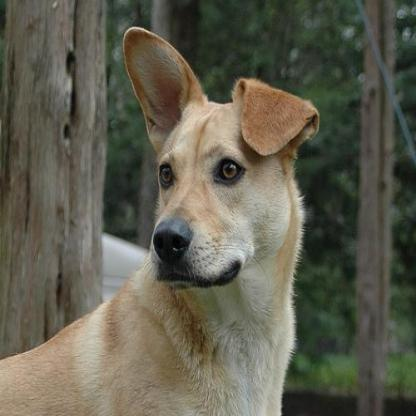dingo: (0, 23, 319, 413)
